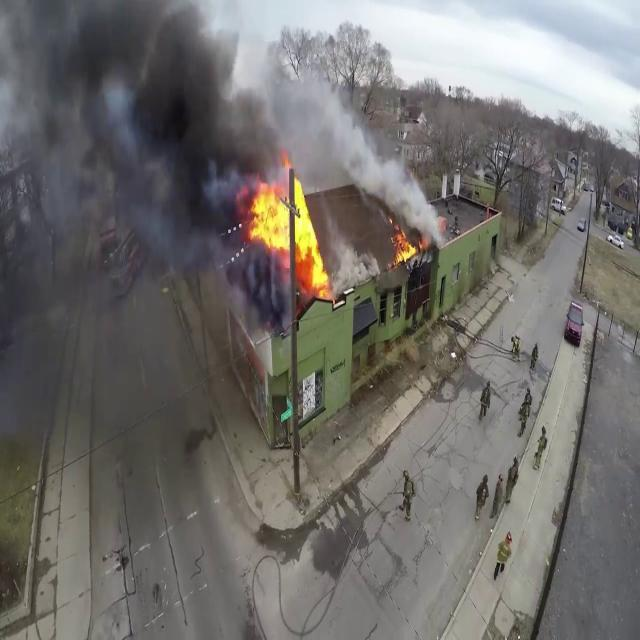Fire: (242, 167, 330, 293), (391, 226, 424, 268)
Smoke: (0, 1, 210, 467), (0, 0, 434, 208)
